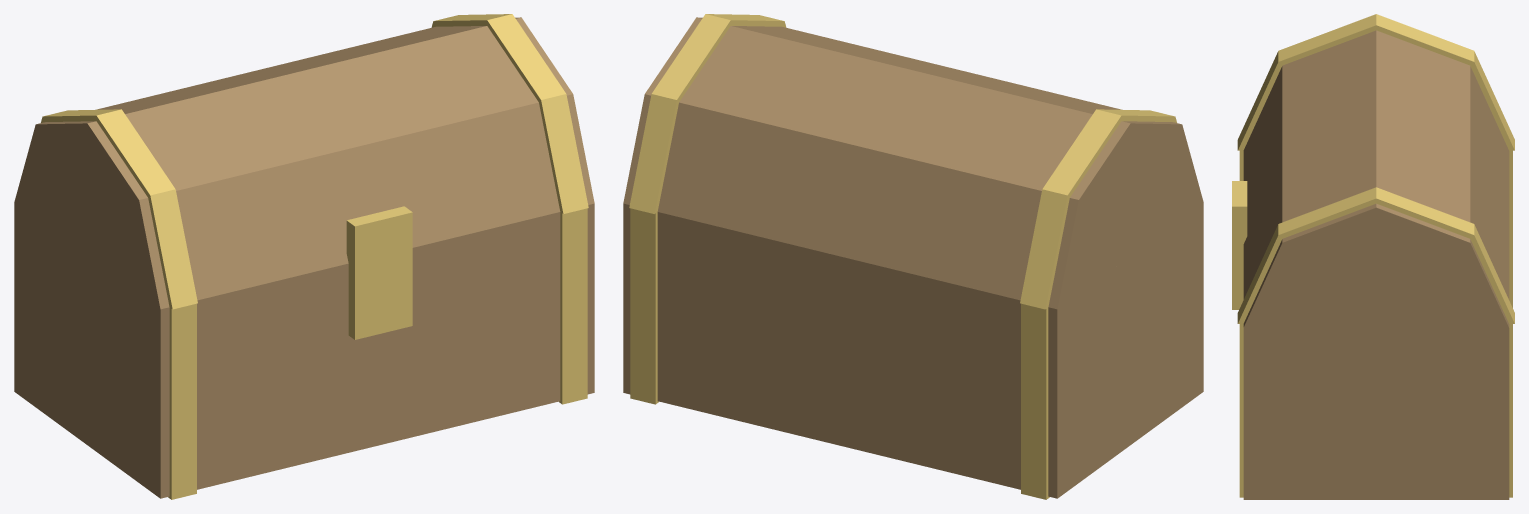
The model's file is chest_normal.glb.
3 renders of one model, left to right at view 1: azimuth 30°, elevation 25°; view 2: azimuth 150°, elevation 25°; view 3: azimuth 270°, elevation 25°, orthographic. The views are drawn at different scales.
Visible parts, largest first — view 1: Body, Lid_mesh; view 2: Body, Lid_mesh; view 3: Lid_mesh, Body.
Boxes of the visible parts, x1,y1,x2,y2 form: Body: (14,202,594,499); Lid_mesh: (14,14,594,309); Body: (623,202,1203,499); Lid_mesh: (623,14,1203,309); Lid_mesh: (1232,14,1514,327); Body: (1232,149,1512,499).
Bounding box in the file's own units: 1.2 × 0.87 × 0.745.
